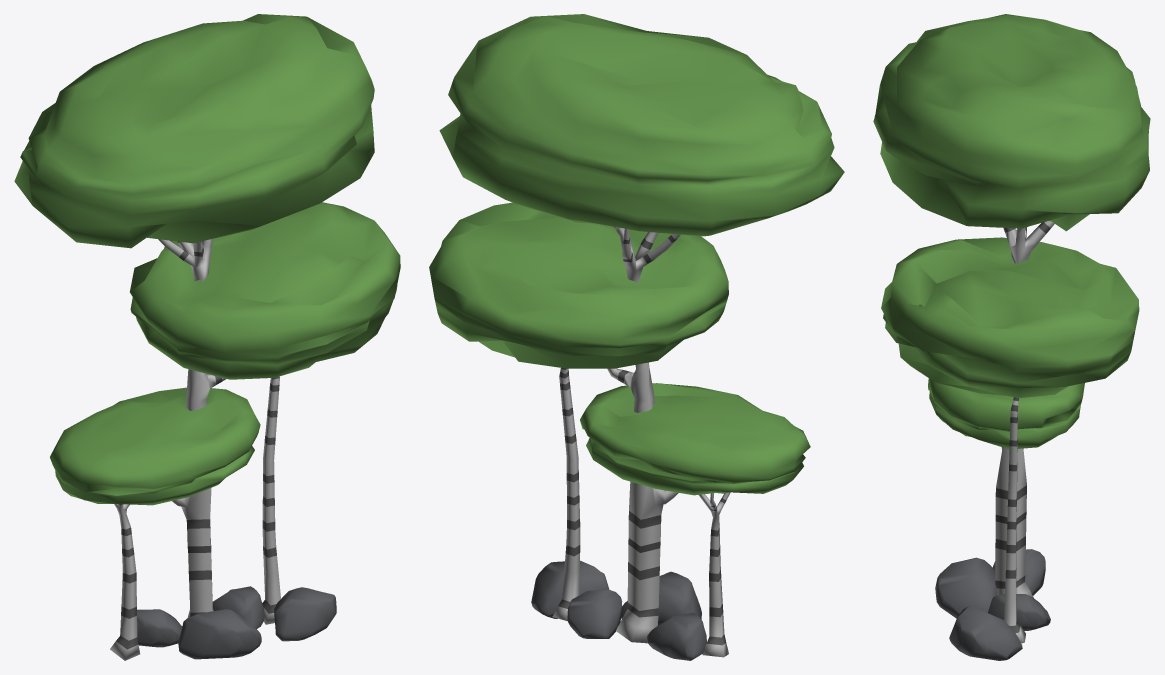
Rendered from tree_03.glb.
3 renders of one model, left to right at view 1: azimuth 30°, elevation 25°; view 2: azimuth 150°, elevation 25°; view 3: azimuth 270°, elevation 25°, orthographic. The views are drawn at different scales.
Visible parts, largest first — view 1: tree_03; view 2: tree_03; view 3: tree_03.
Part boxes in pixels (box(x1,y1,x2,y2)): tree_03: box(14, 14, 400, 660); tree_03: box(429, 14, 844, 660); tree_03: box(873, 14, 1150, 660).
Size of the model in its own units: 4.42 by 6.79 by 3.01.
1 material, 1 textured.
